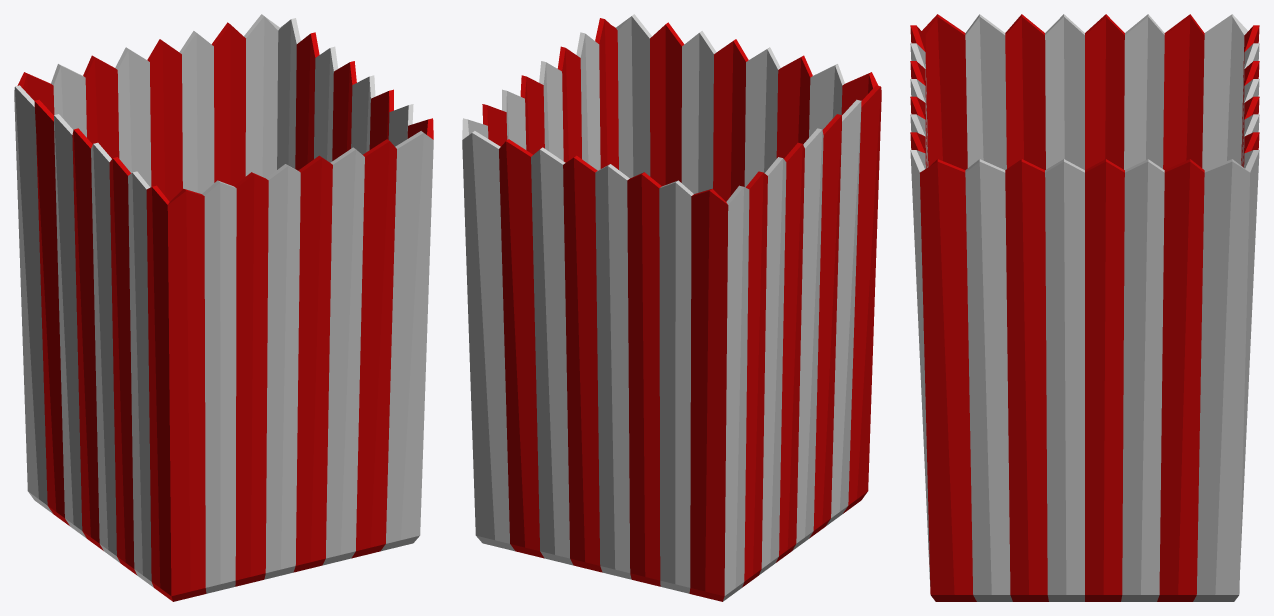
The model's file is bucket.fbx.
3 views of the same model, side by side, from view 1: azimuth 30°, elevation 25°; view 2: azimuth 150°, elevation 25°; view 3: azimuth 270°, elevation 25° (orthographic). The views are drawn at different scales.
Visible parts, largest first — view 1: Cube; view 2: Cube; view 3: Cube.
Part boxes in pixels (x1=…): Cube: x1=14, y1=14, x2=433, y2=601; Cube: x1=462, y1=14, x2=881, y2=601; Cube: x1=910, y1=14, x2=1259, y2=601.
Bounding box in the file's own units: 219 × 312 × 219.
